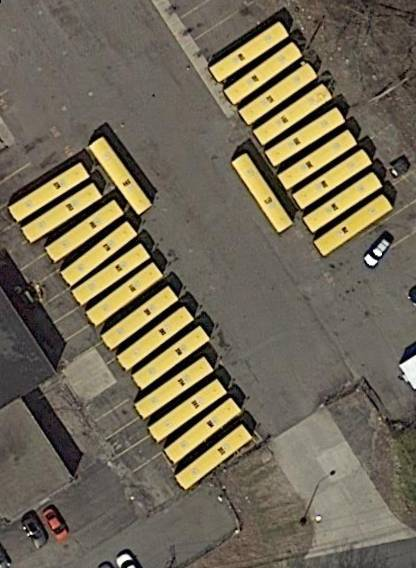large vehicle: (161, 395, 245, 466), (132, 353, 217, 423), (312, 191, 394, 260), (8, 159, 93, 225), (175, 422, 255, 492), (114, 304, 196, 372), (131, 324, 213, 392), (147, 376, 229, 444), (44, 197, 127, 264), (251, 83, 335, 149), (301, 170, 385, 236), (231, 151, 296, 236), (290, 148, 375, 213), (58, 220, 140, 287), (99, 284, 181, 351), (237, 61, 320, 127), (70, 242, 153, 308), (88, 135, 154, 218), (85, 261, 166, 328), (208, 20, 291, 85), (221, 41, 304, 106), (263, 105, 347, 169), (275, 129, 359, 192), (20, 181, 103, 244)
small vehicle: (360, 234, 397, 271), (22, 510, 50, 552), (42, 505, 72, 543)
